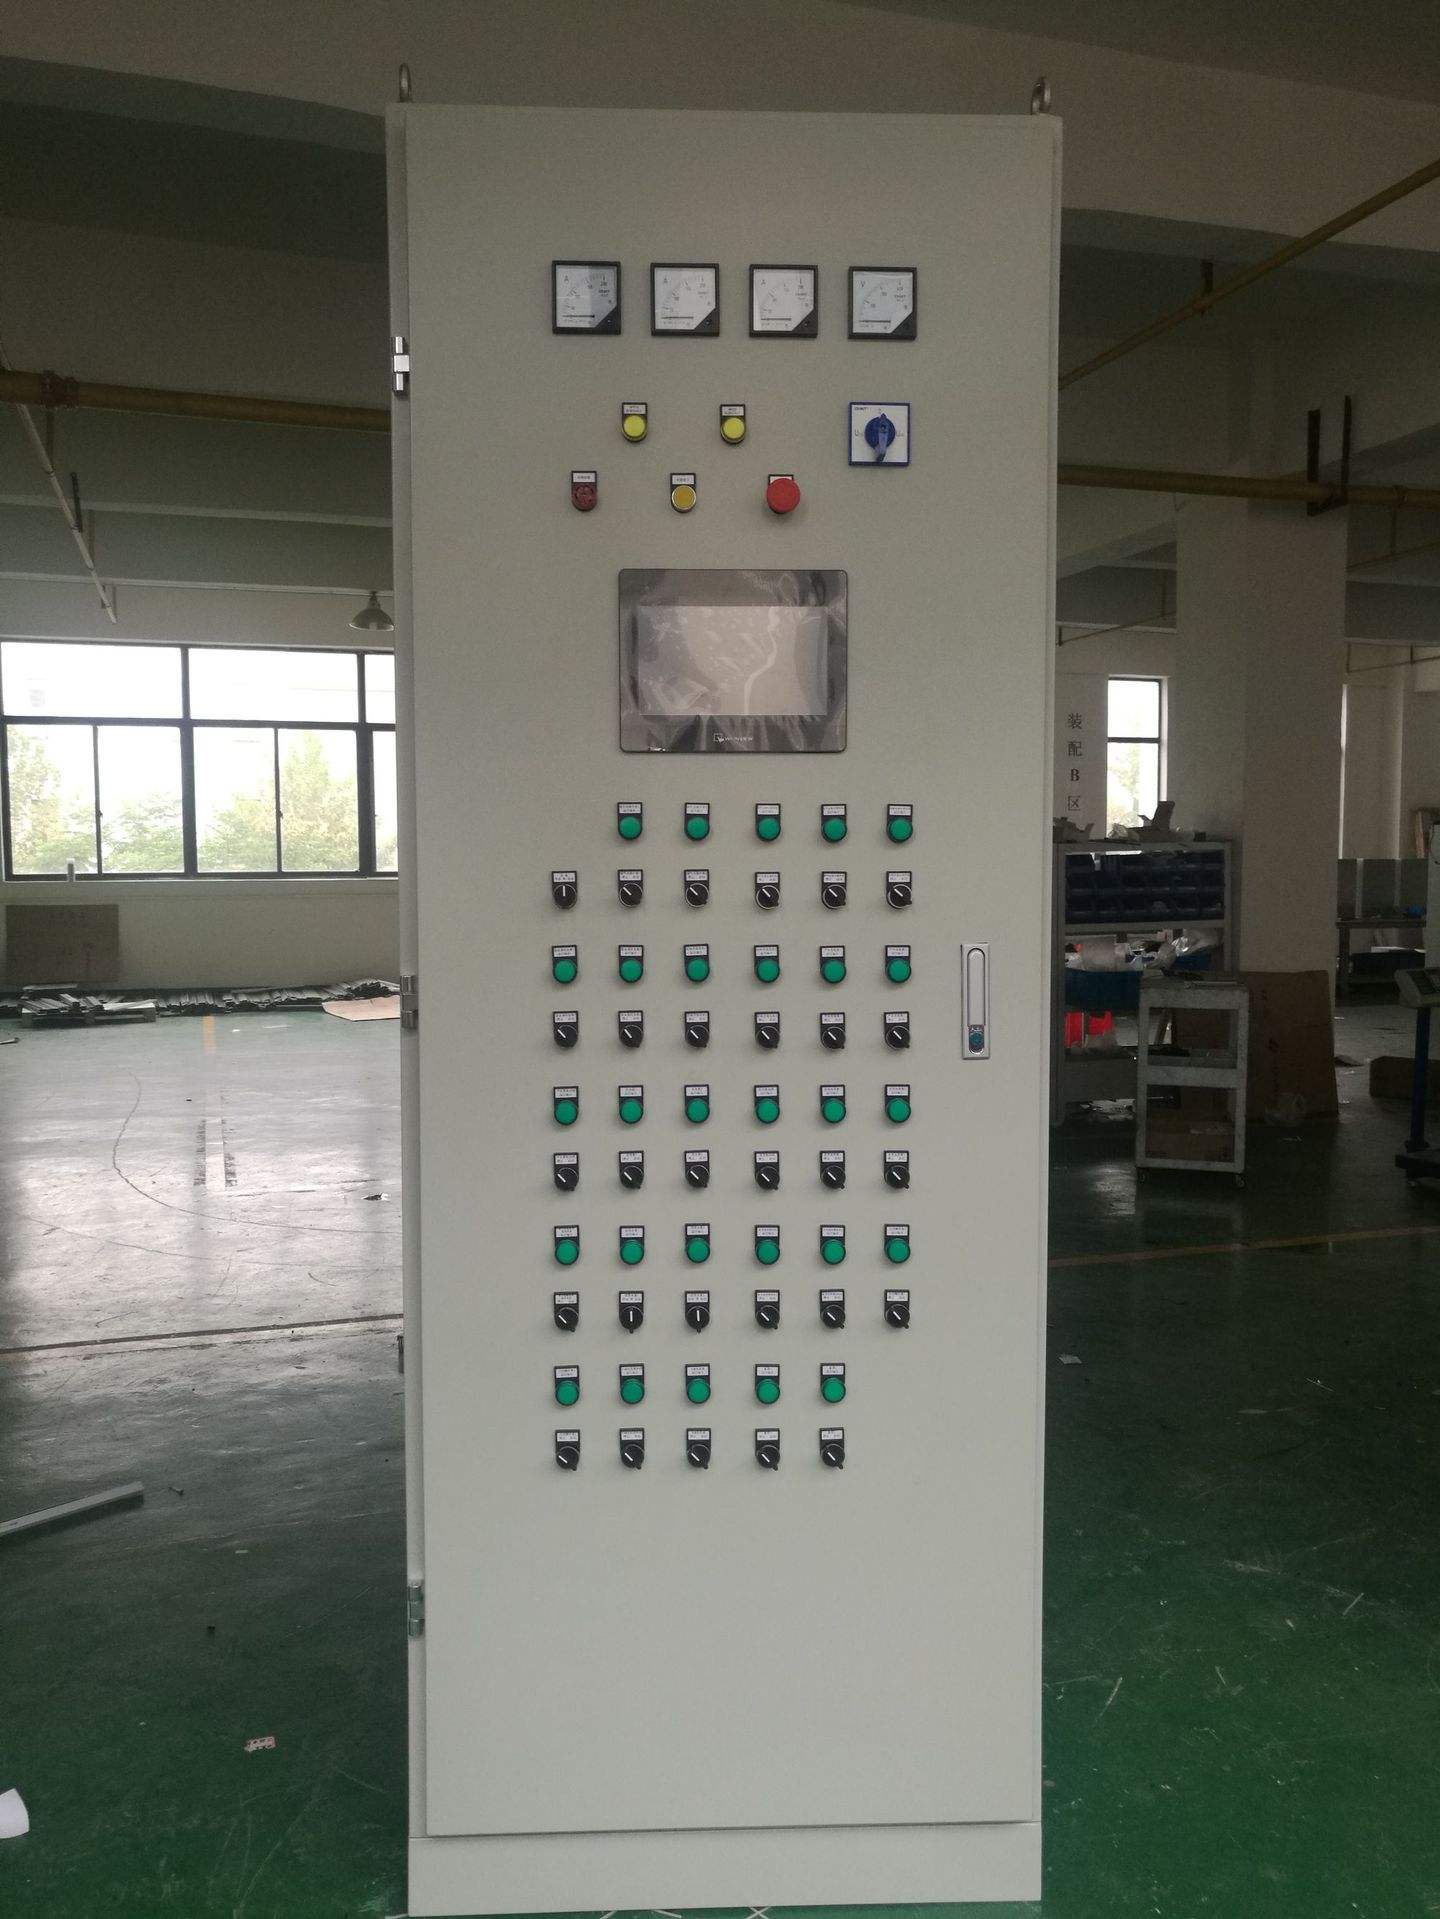pointer: (849, 265, 914, 339), (652, 265, 718, 334), (750, 265, 818, 331), (555, 260, 617, 327)
